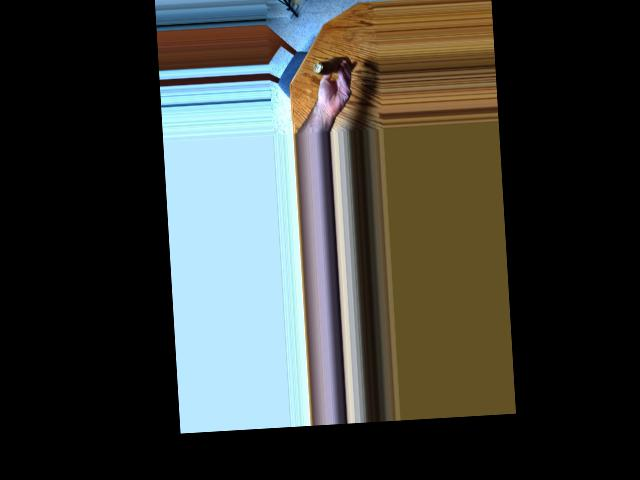sweet_potato: (317, 55, 352, 70)
